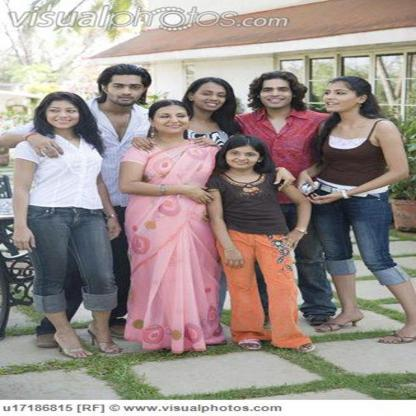face: (151, 106, 191, 133), (111, 73, 142, 106), (46, 101, 80, 128), (325, 85, 358, 112), (262, 79, 291, 108), (197, 84, 227, 112), (229, 147, 260, 170)
